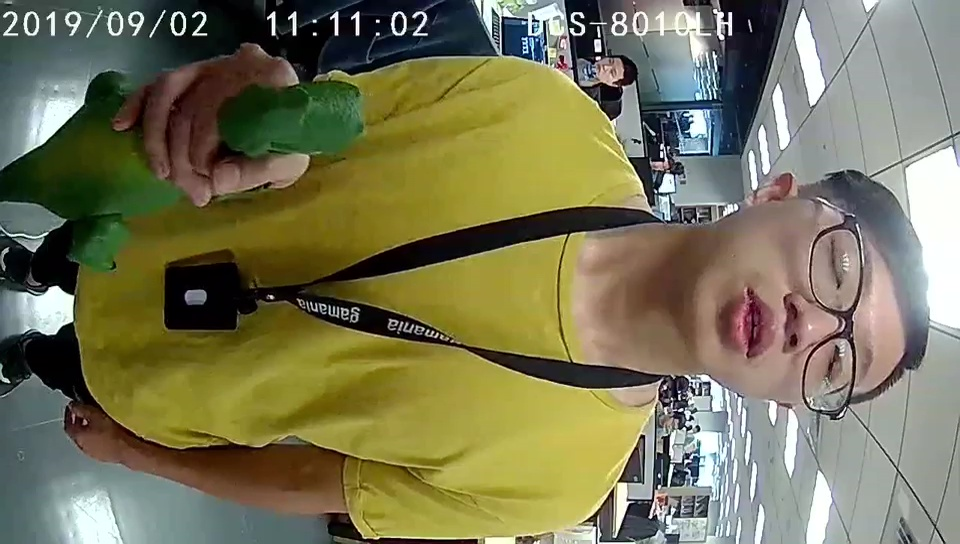rex: (63, 77, 367, 274)
